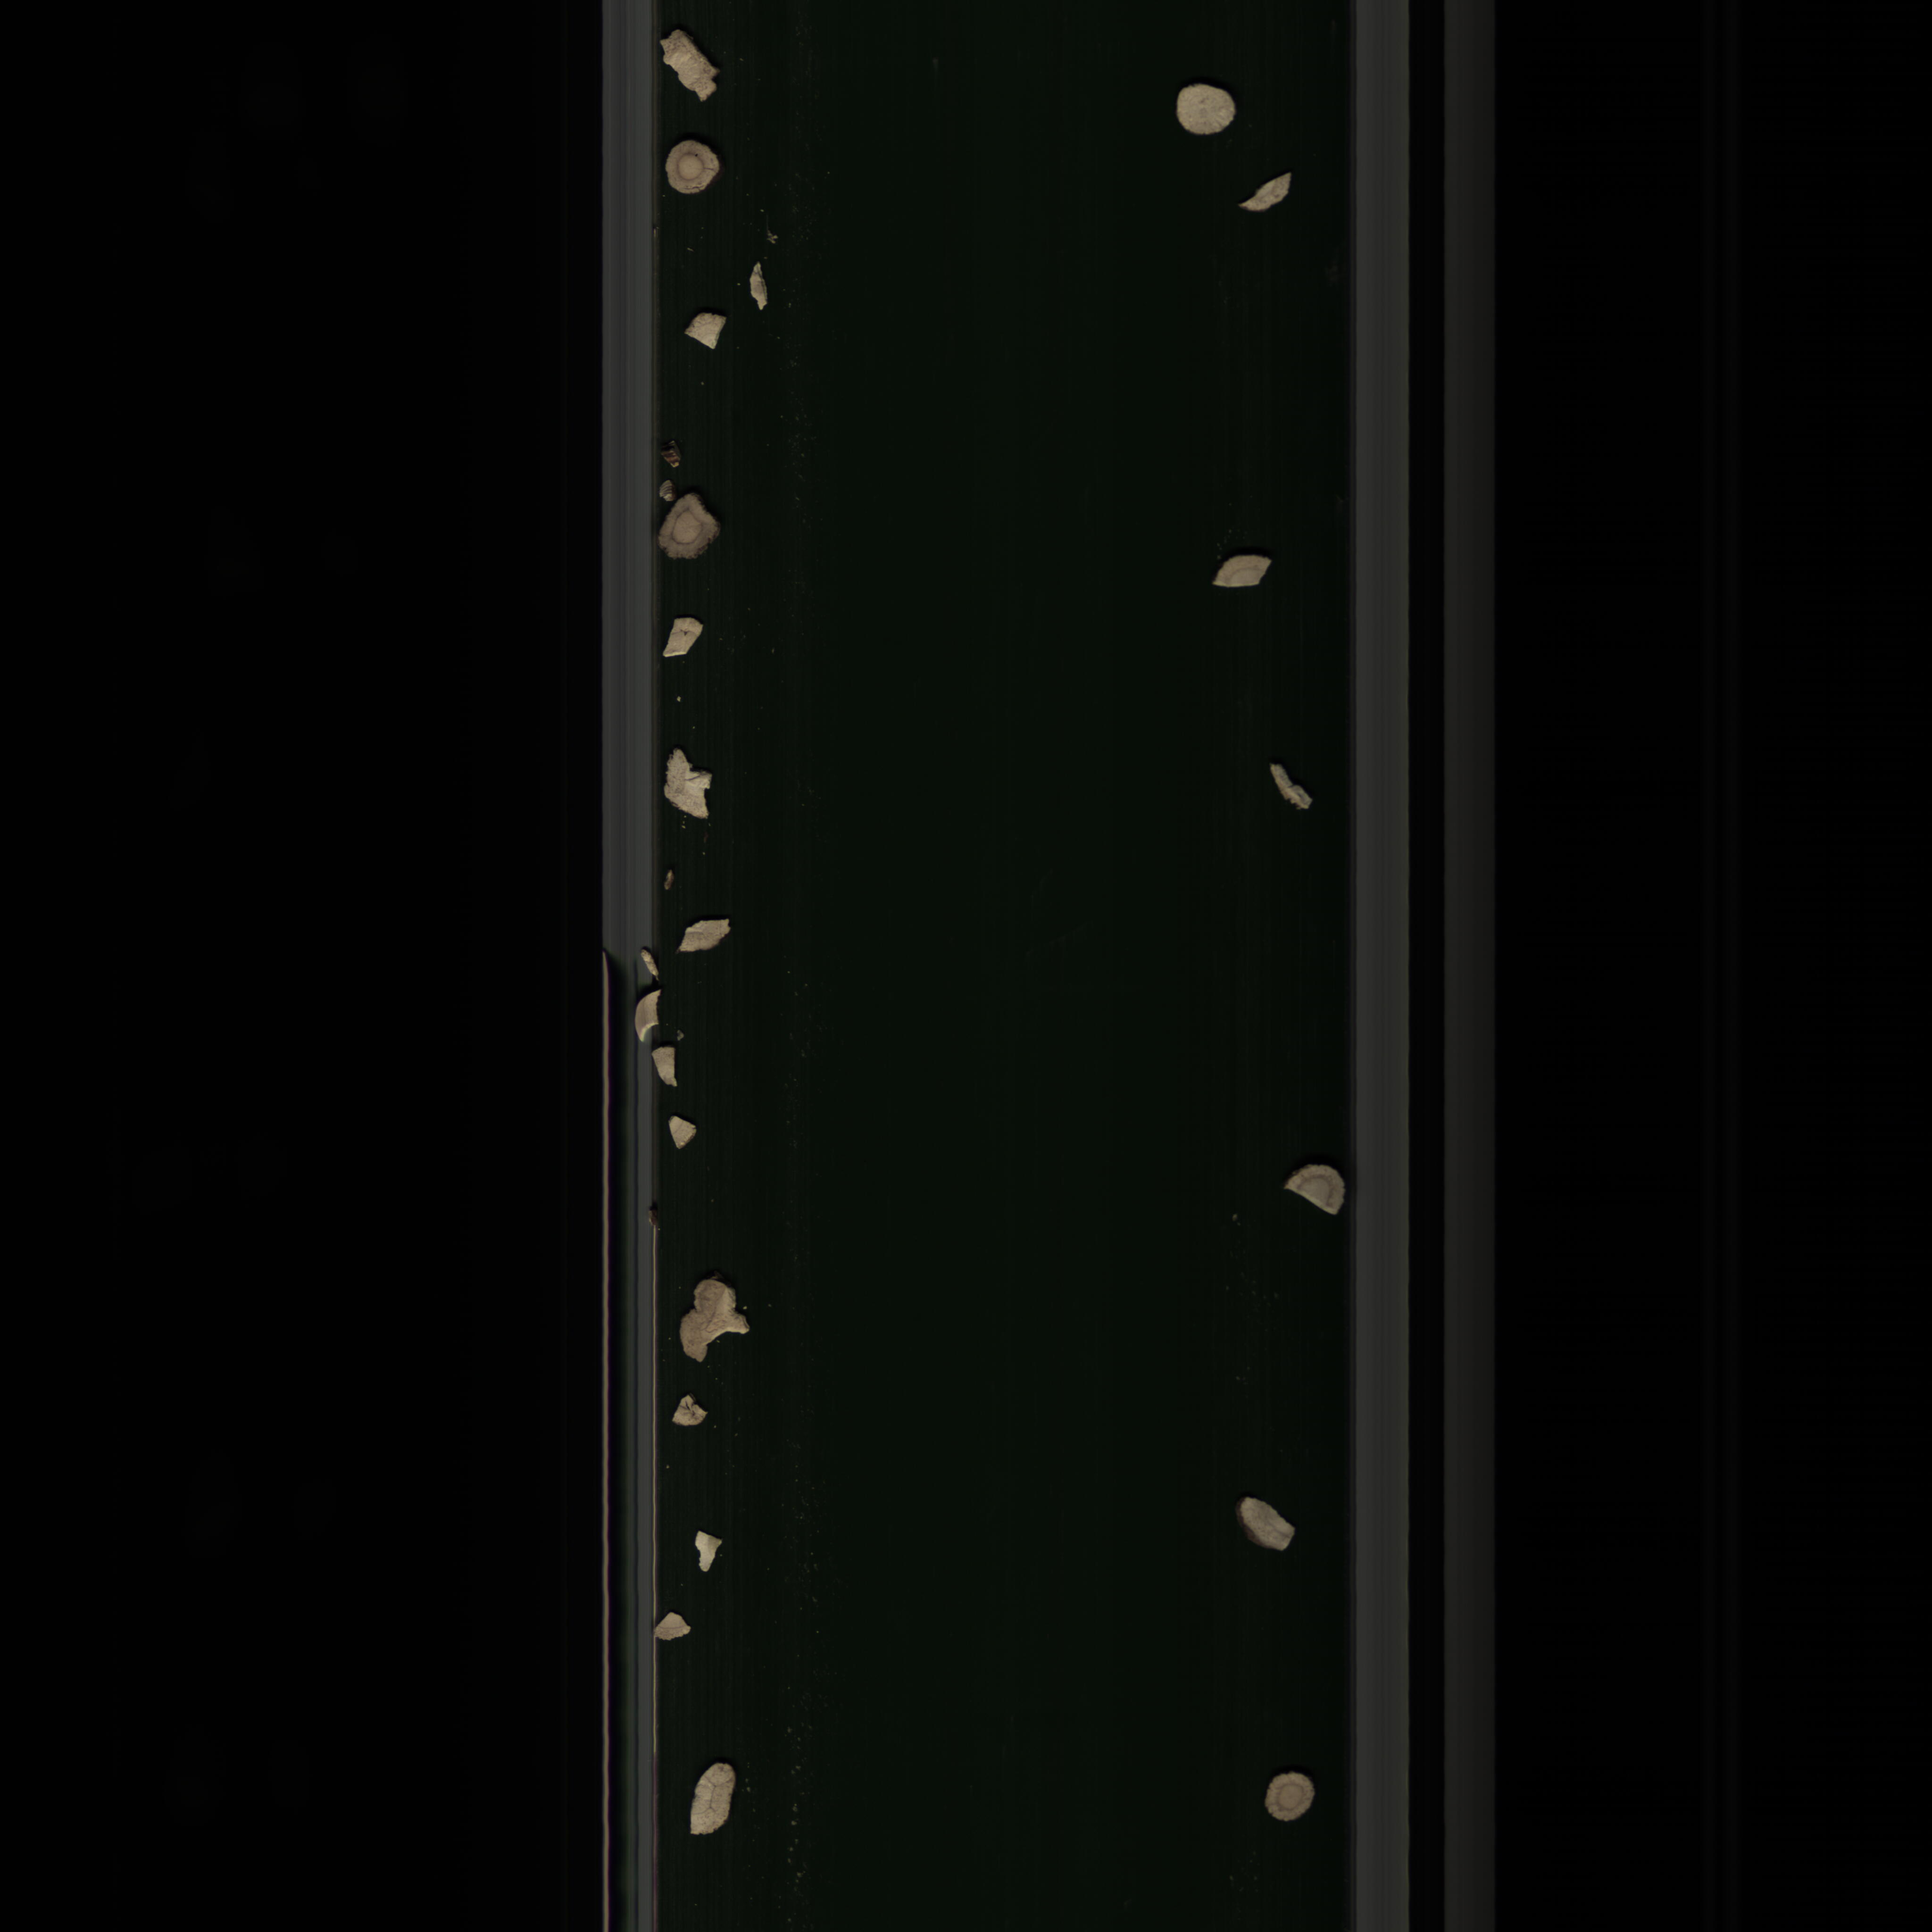debris: (672, 1274, 764, 1368), (653, 23, 724, 111), (658, 741, 718, 828), (1233, 1491, 1304, 1562), (1283, 1155, 1345, 1221), (1235, 165, 1302, 221), (655, 610, 708, 669), (1267, 759, 1318, 817), (674, 915, 741, 959), (669, 1391, 718, 1438), (1210, 554, 1270, 593), (679, 308, 725, 357), (690, 1527, 729, 1578), (635, 989, 669, 1046), (743, 258, 773, 318), (651, 1040, 685, 1093), (648, 1605, 692, 1644), (665, 1113, 701, 1154)
distortion: (688, 1753, 740, 1849)
moldy: (656, 487, 727, 566), (662, 133, 725, 202)
